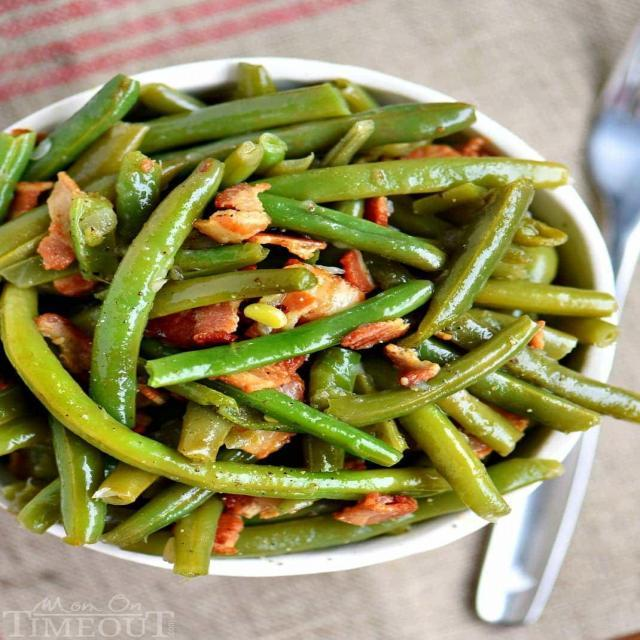Beans: (0, 70, 630, 579)
